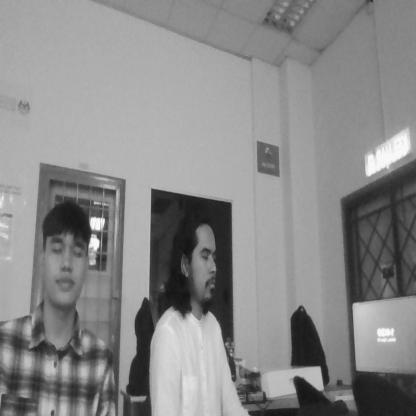Closed-Eyes: (44, 227, 90, 263), (197, 244, 217, 270)
